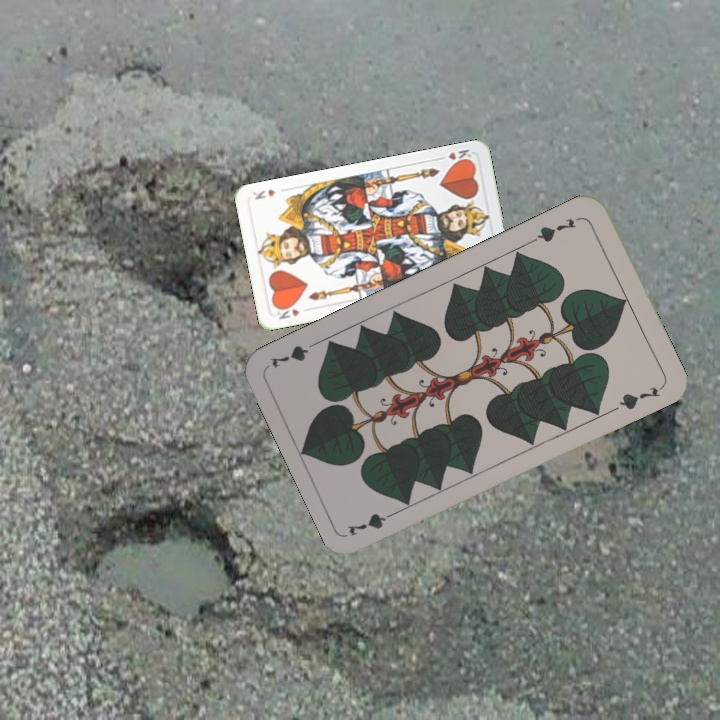G7: (344, 506, 402, 539), (528, 212, 584, 245)
HK: (434, 145, 475, 167), (273, 301, 302, 322)
